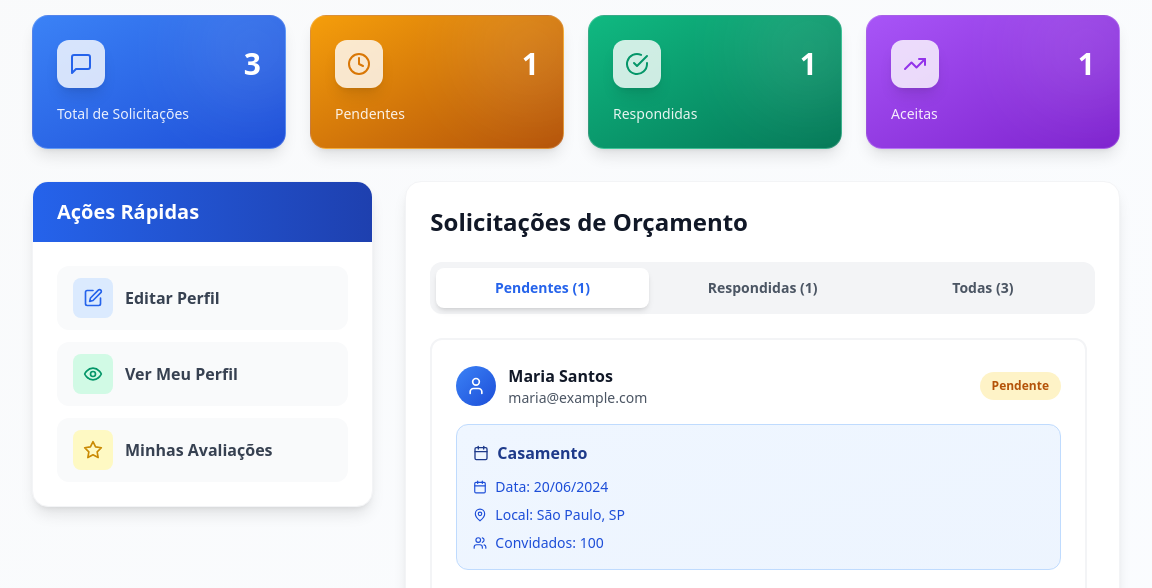
Test: SupplierDashboard › Filtering › should show all quotes when all tab is clicked
Expected: the text "Maria Santos" is shown, [508,365,613,387]
Step 1. Click the button "Todas (3)" → (983, 288), box [877,268,1089,308]
(page scrolled)
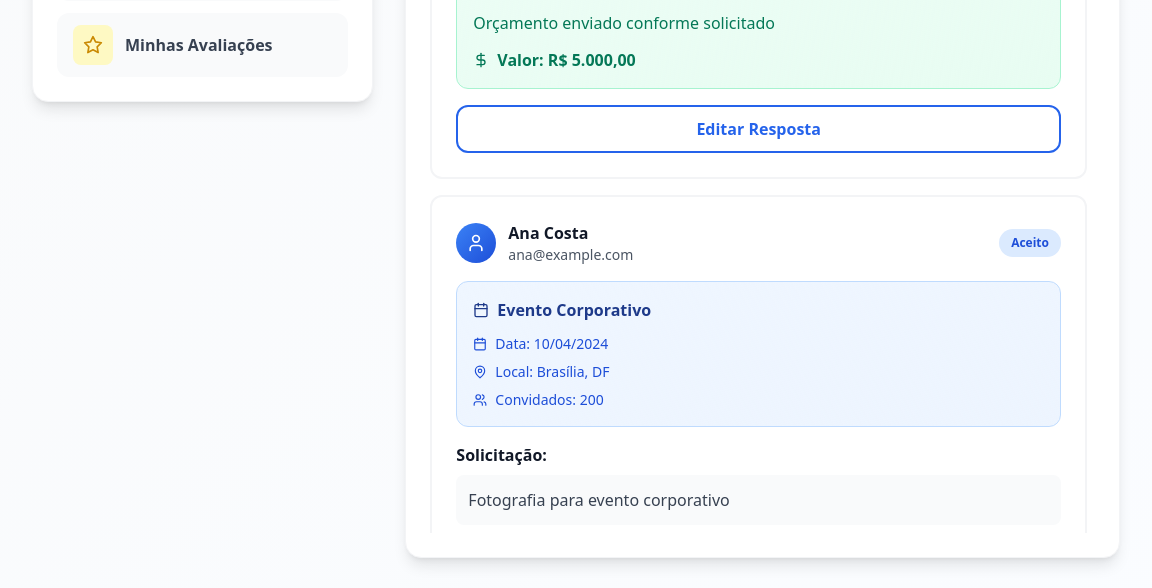
Expected: the text "Ana Costa" is shown, [508,222,588,244]
